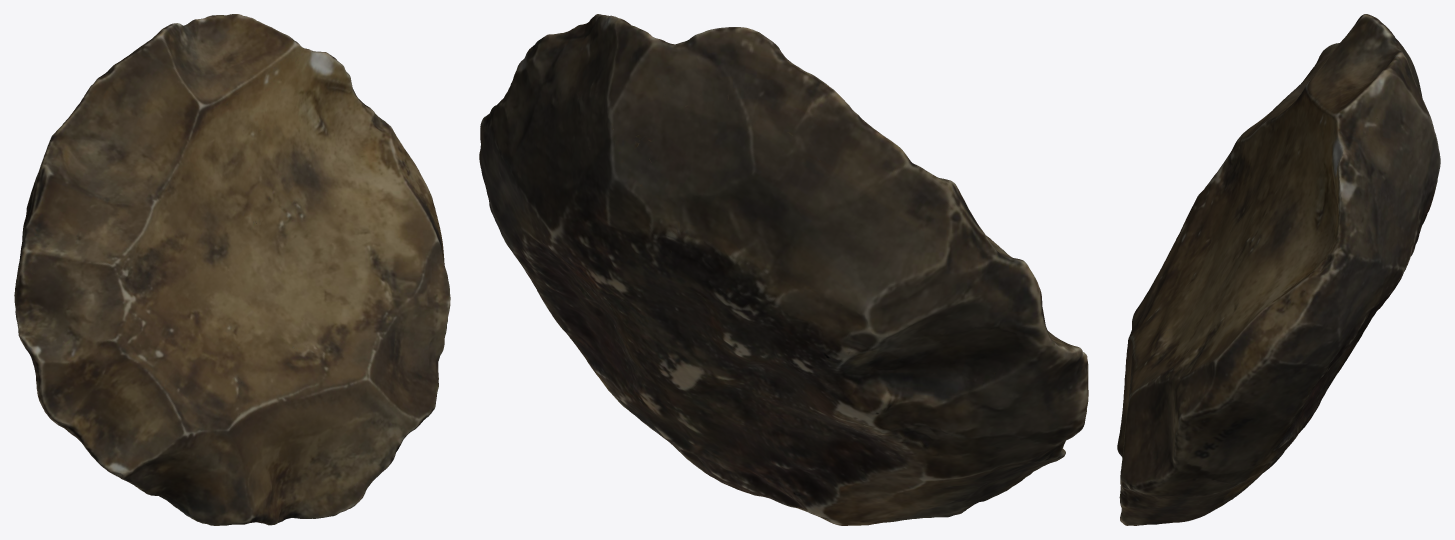
The picture shows the model from 3 angles, left to right: view 1: azimuth 30°, elevation 25°; view 2: azimuth 150°, elevation 25°; view 3: azimuth 270°, elevation 25°; orthographic projection. The views are drawn at different scales.
Visible parts, largest first — view 1: Node; view 2: Node; view 3: Node.
Part boxes in pixels (left/top/right/bottom): Node: left=14, top=14, right=450, bottom=525; Node: left=479, top=14, right=1088, bottom=525; Node: left=1117, top=14, right=1440, bottom=525.
Bounding box in the file's own units: 2.06 × 2.01 × 1.24.
1 material, 1 textured.
